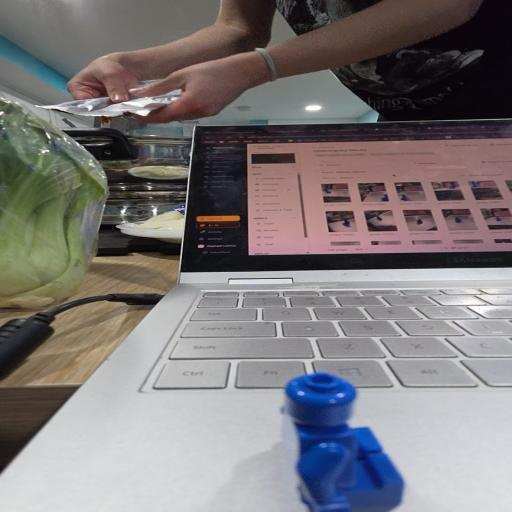Blue: (284, 373, 403, 512)
